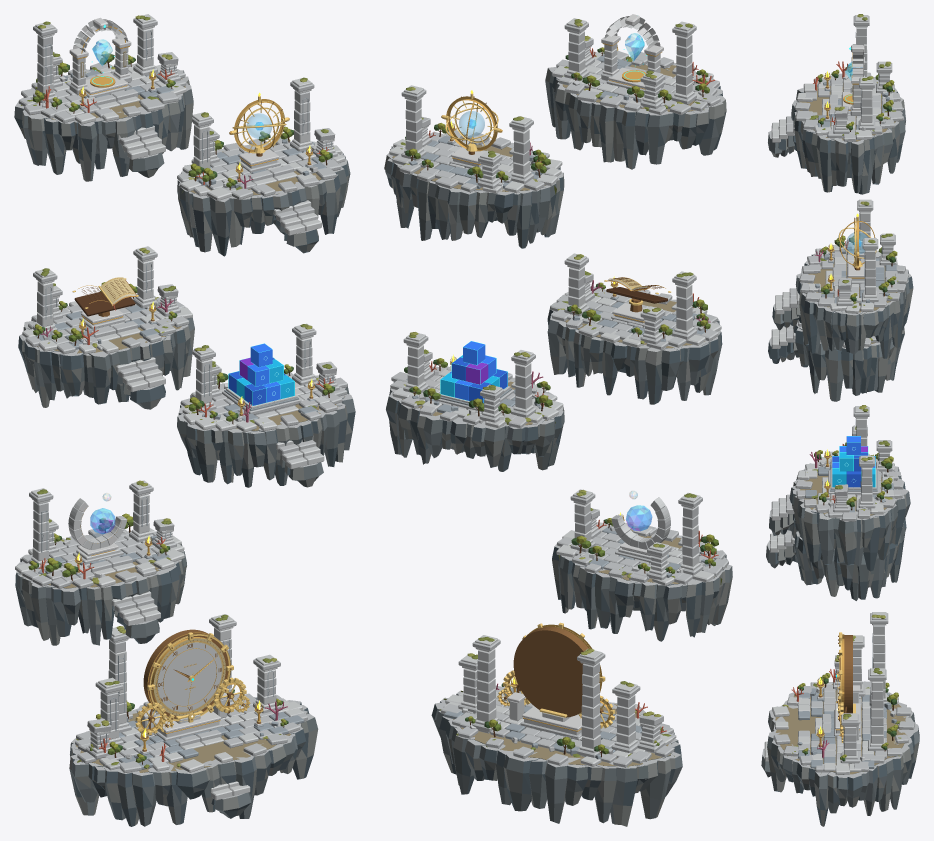
The model's file is sunken_ruins_web_draco.glb.
3 renders of one model, left to right at view 1: azimuth 30°, elevation 25°; view 2: azimuth 150°, elevation 25°; view 3: azimuth 270°, elevation 25°, orthographic. The views are drawn at different scales.
Parts seen in each view (by area): view 1: Static_Ruin_06, Static_Ruin_01, Static_Ruin_05, Static_Ruin_02, Static_Ruin_03, Static_Ruin_04, Chronometer | right exposed escapement; view 2: Static_Ruin_06, Static_Ruin_01, Static_Ruin_02, Static_Ruin_05, Static_Ruin_03, Static_Ruin_04; view 3: Static_Ruin_06, Static_Ruin_01, Static_Ruin_02, Static_Ruin_04, Static_Ruin_03, Static_Ruin_05.
Boxes of the visible parts, x1,y1,x2,y2 form: Static_Ruin_06: [69, 614, 318, 826]; Static_Ruin_01: [14, 14, 193, 181]; Static_Ruin_05: [15, 480, 186, 645]; Static_Ruin_02: [177, 77, 350, 256]; Static_Ruin_03: [18, 246, 194, 409]; Static_Ruin_04: [177, 323, 355, 487]; Chronometer | right exposed escapement: [213, 677, 246, 712]; Static_Ruin_06: [431, 622, 682, 826]; Static_Ruin_01: [545, 14, 726, 169]; Static_Ruin_02: [384, 85, 564, 248]; Static_Ruin_05: [552, 489, 732, 641]; Static_Ruin_03: [547, 253, 722, 404]; Static_Ruin_04: [386, 332, 564, 471]; Static_Ruin_06: [761, 612, 919, 826]; Static_Ruin_01: [768, 14, 905, 194]; Static_Ruin_02: [772, 199, 913, 358]; Static_Ruin_04: [769, 405, 910, 571]; Static_Ruin_03: [768, 319, 905, 401]; Static_Ruin_05: [766, 425, 906, 600].
Bounding box in the file's own units: 19.09 × 44.63 × 9.03.
